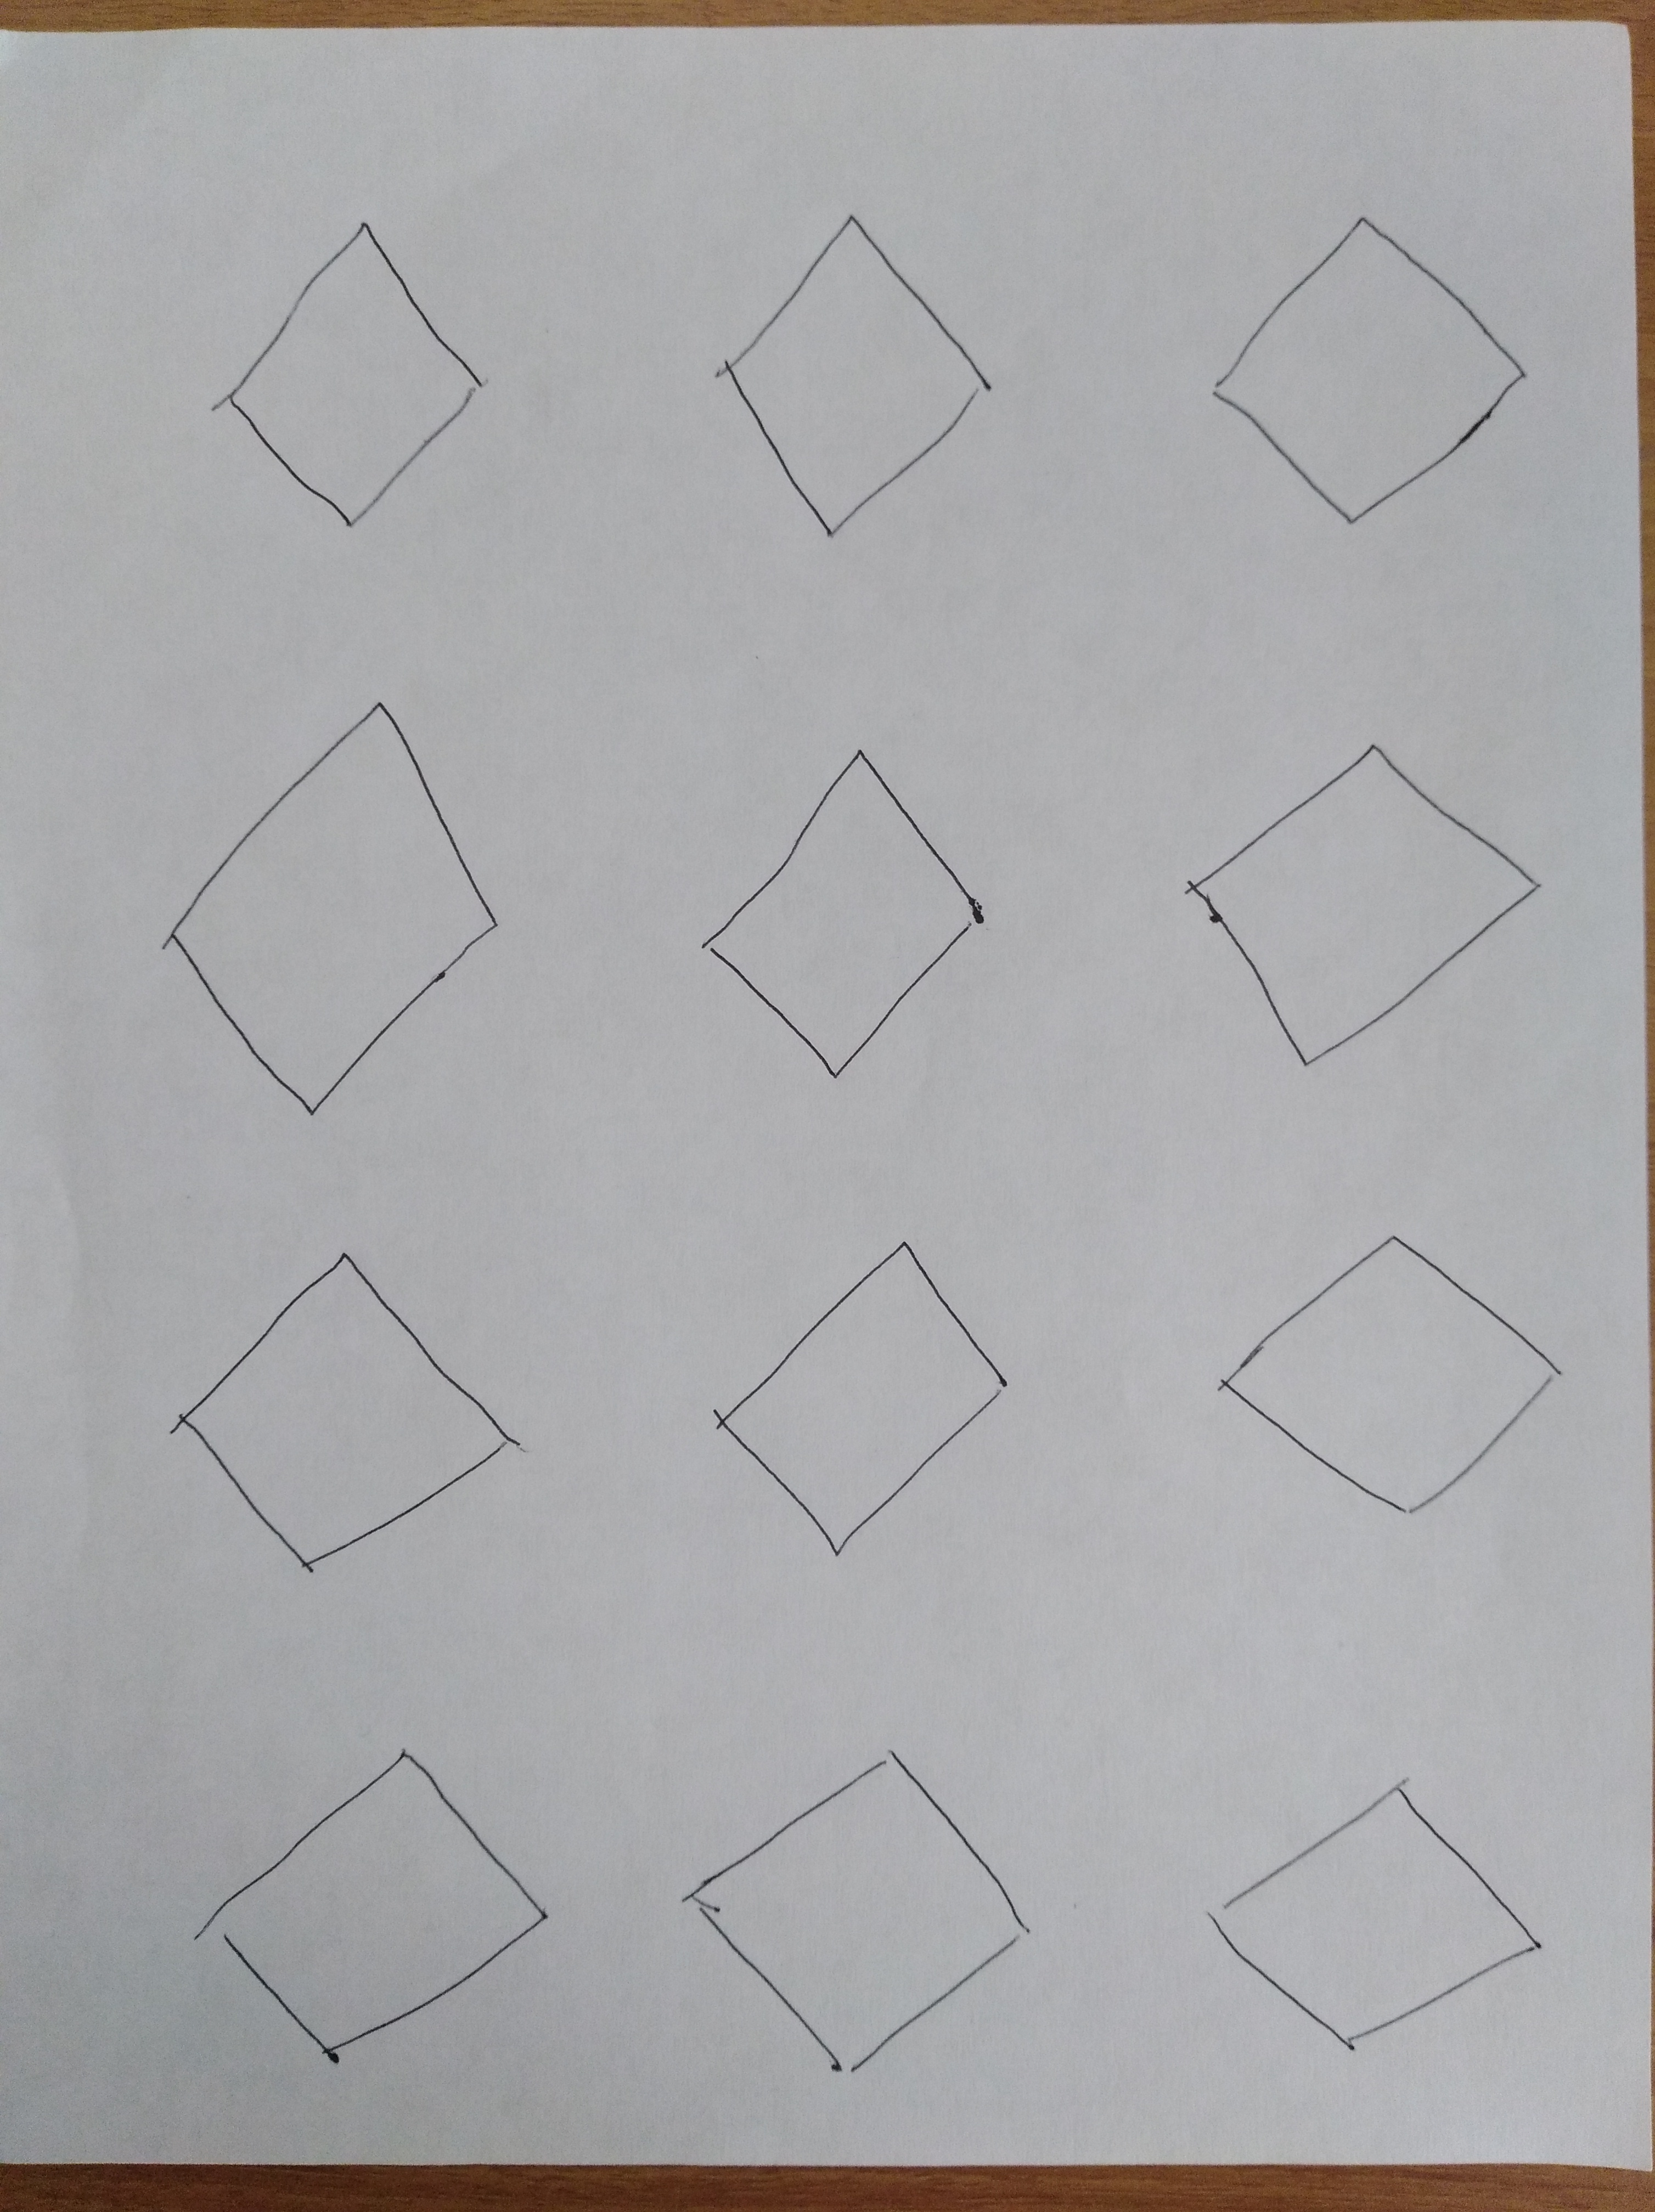decision: (137, 667, 542, 1142), (146, 1705, 595, 2099), (657, 1706, 1074, 2097), (130, 1215, 551, 1592), (1153, 723, 1570, 1088), (1182, 172, 1559, 560), (1163, 1719, 1570, 2076), (1191, 1183, 1589, 1546), (167, 179, 542, 554), (680, 186, 1029, 566), (669, 1211, 1024, 1580), (673, 712, 1005, 1098)
